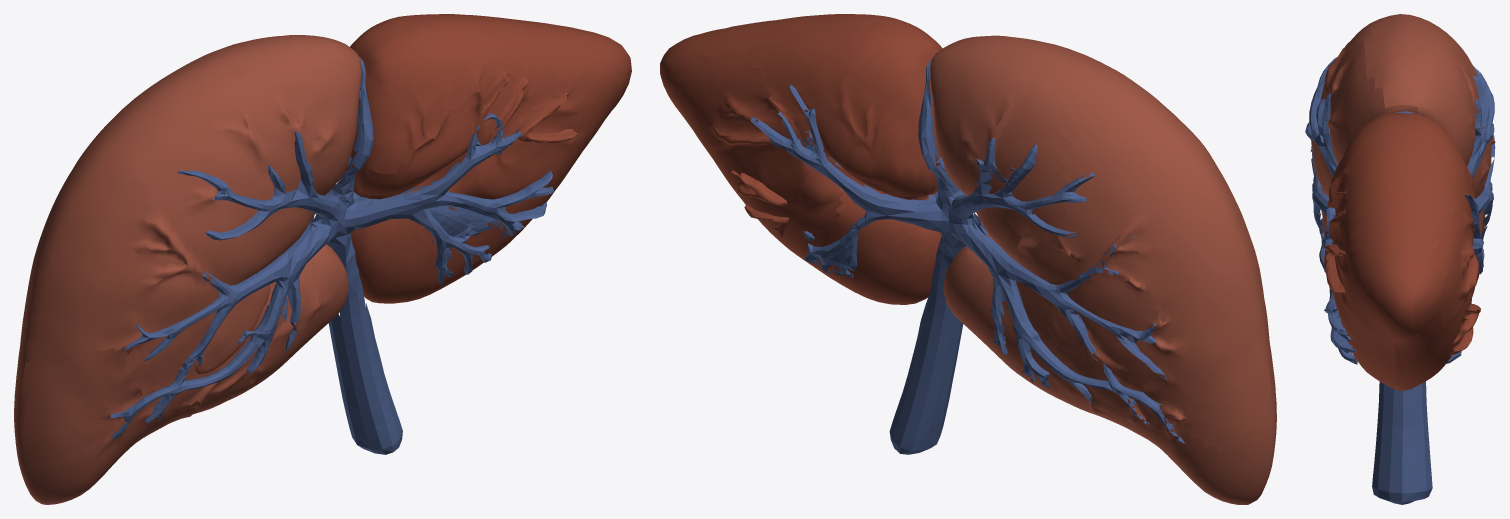
File: organ-liver-interactive-lod.glb
3 renders of one model, left to right at view 1: azimuth 30°, elevation 25°; view 2: azimuth 150°, elevation 25°; view 3: azimuth 270°, elevation 25°, orthographic. The views are drawn at different scales.
Visible parts, largest first — view 1: Left Lobe, Right Lobe, Vein Network; view 2: Left Lobe, Right Lobe, Vein Network; view 3: Right Lobe, Left Lobe, Vein Network.
Part boxes in pixels (box(x1,y1,x2,y2)): Left Lobe: box(14, 35, 361, 504); Right Lobe: box(338, 14, 631, 303); Vein Network: box(110, 57, 553, 454); Left Lobe: box(930, 35, 1276, 504); Right Lobe: box(660, 14, 948, 304); Vein Network: box(749, 57, 1184, 454); Right Lobe: box(1324, 112, 1480, 390); Left Lobe: box(1311, 14, 1495, 237); Vein Network: box(1305, 57, 1495, 504).
Size of the model in its own units: 1.9 by 1.27 by 0.5395.
